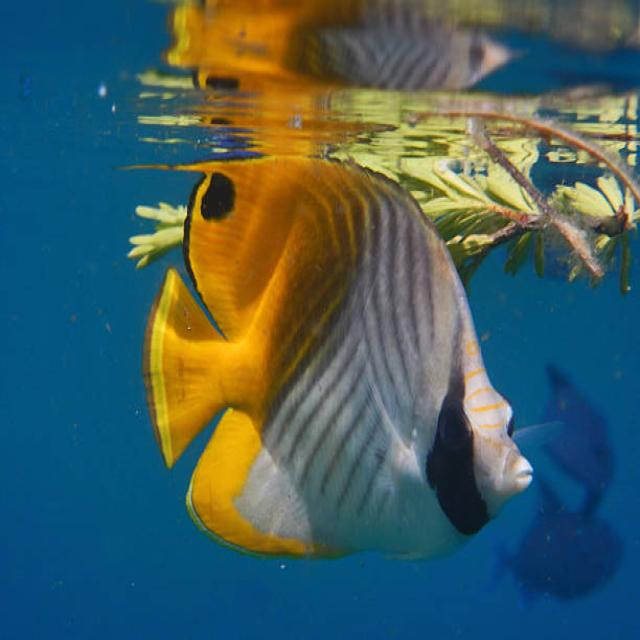ButterflyFish: (139, 159, 535, 560)
